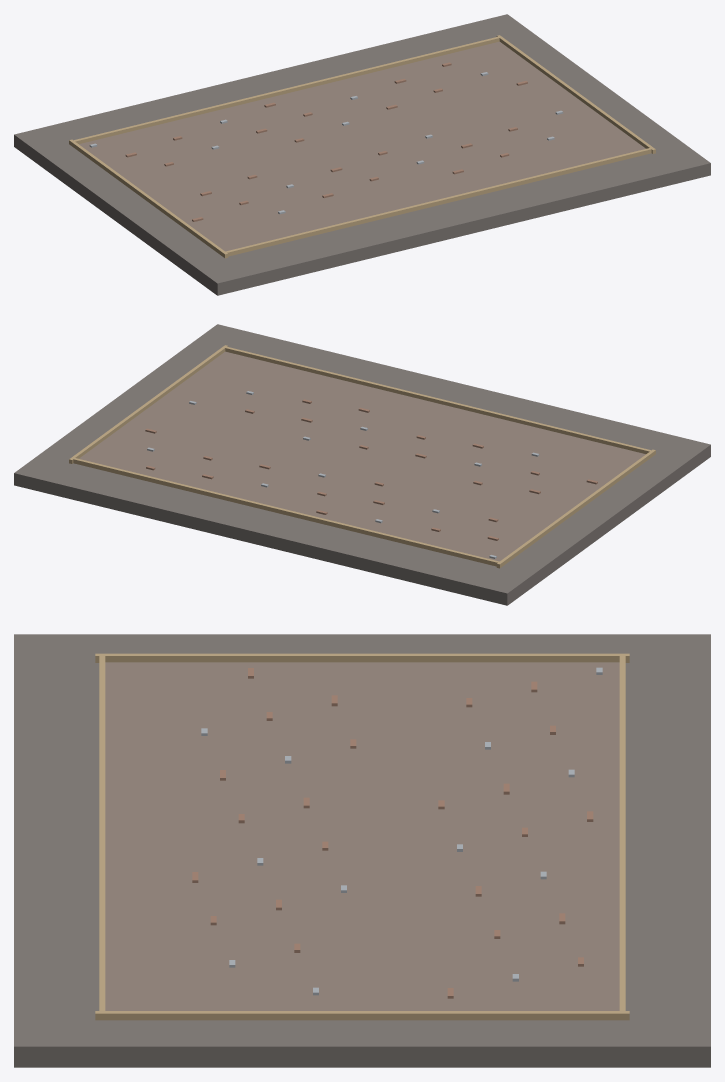
The model's file is suelo_desguace.glb.
3 renders of one model, top to bottom at view 1: azimuth 30°, elevation 25°; view 2: azimuth 150°, elevation 25°; view 3: azimuth 270°, elevation 25°, orthographic. The views are drawn at different scales.
Parts seen in each view (by area): view 1: suelo_desguace; view 2: suelo_desguace; view 3: suelo_desguace.
Part boxes in pixels (bbox=[...]): suelo_desguace: bbox=[14, 14, 710, 295]; suelo_desguace: bbox=[14, 324, 710, 605]; suelo_desguace: bbox=[14, 634, 710, 1067].
Bounding box in the file's own units: 21 × 0.665 × 15.
